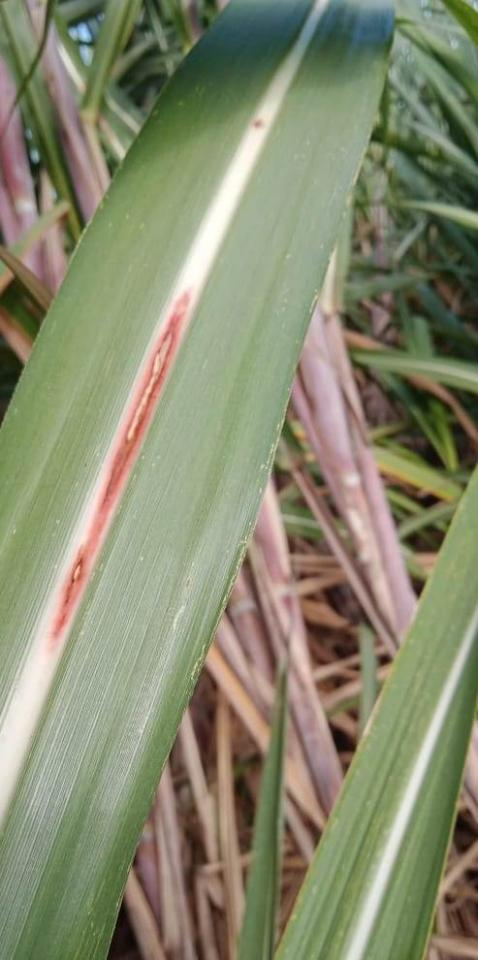RedRot: (51, 286, 192, 659)
